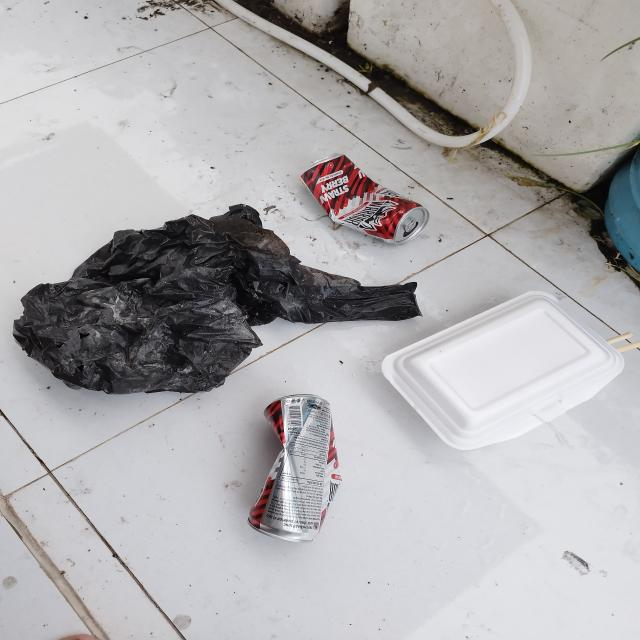bag: (12, 202, 422, 399)
can: (246, 394, 342, 542), (296, 154, 431, 244)
foam box: (380, 287, 626, 451)
